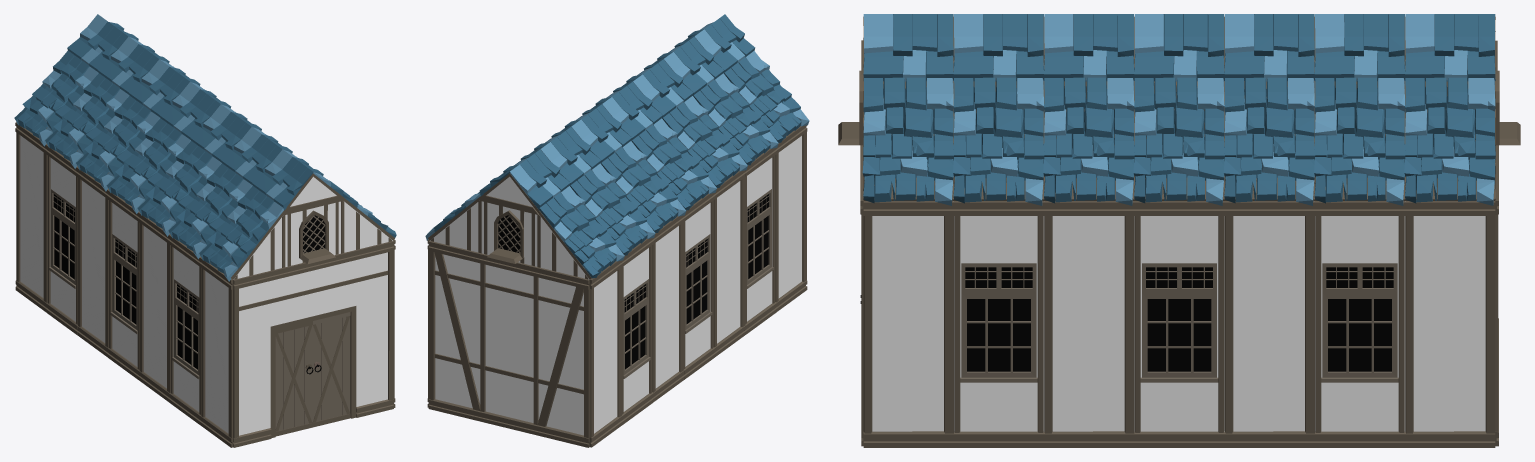
File: House_04_full.obj
3 renders of one model, left to right at view 1: azimuth 30°, elevation 25°; view 2: azimuth 150°, elevation 25°; view 3: azimuth 270°, elevation 25°, orthographic. The views are drawn at different scales.
Visible parts, largest first — view 1: mesh_0; view 2: mesh_0; view 3: mesh_0.
Boxes of the visible parts, x1=… form: mesh_0: x1=14, y1=14, x2=396, y2=447; mesh_0: x1=425, y1=14, x2=809, y2=447; mesh_0: x1=838, y1=14, x2=1520, y2=447.
Size of the model in its own units: 0.6985 by 1 by 1.65.
1 material, 1 textured.
